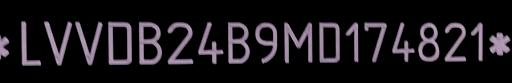letter: (160, 16, 196, 71), (280, 18, 318, 69), (72, 16, 106, 71), (40, 18, 76, 69), (103, 15, 135, 70), (194, 15, 226, 70), (360, 17, 394, 68), (12, 15, 44, 68), (134, 17, 166, 70), (315, 16, 345, 71), (223, 18, 253, 71), (250, 17, 280, 68), (442, 16, 470, 69), (416, 17, 444, 68), (388, 18, 416, 69), (342, 17, 362, 68), (468, 18, 488, 69)
